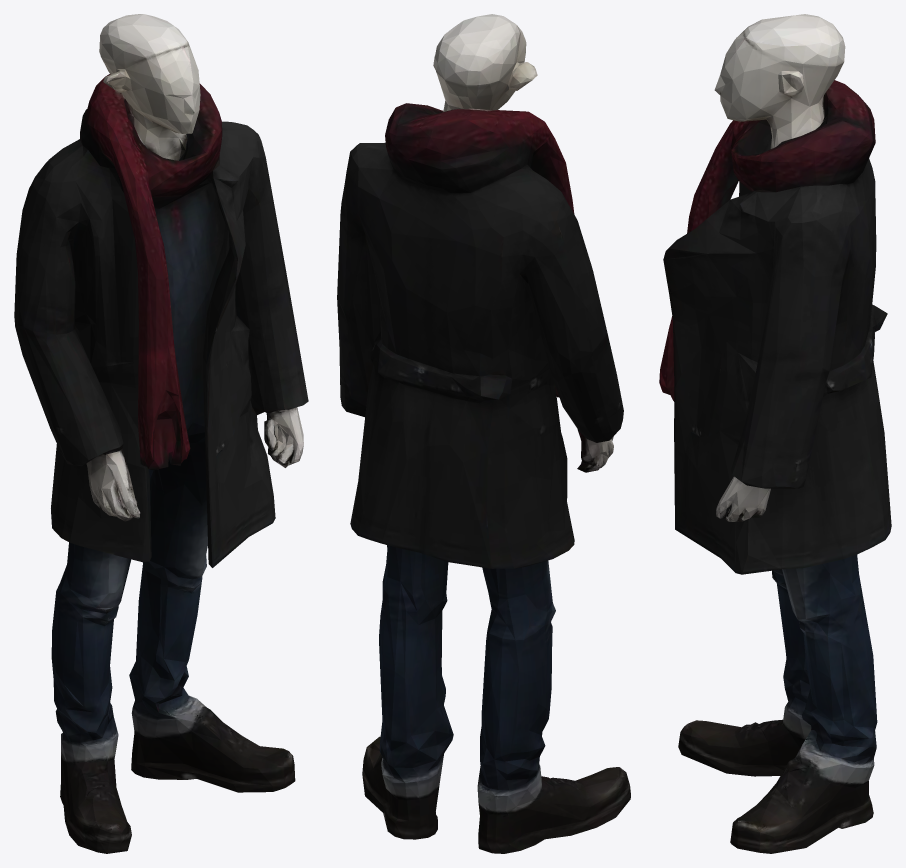
File: dress_black_long_stand.glb
3 views of the same model, side by side, from view 1: azimuth 30°, elevation 25°; view 2: azimuth 150°, elevation 25°; view 3: azimuth 270°, elevation 25° (orthographic). The views are drawn at different scales.
Parts seen in each view (by area): view 1: geometry_0; view 2: geometry_0; view 3: geometry_0.
Boxes of the visible parts, x1=… form: geometry_0: x1=14, y1=14, x2=308, y2=853; geometry_0: x1=337, y1=14, x2=630, y2=853; geometry_0: x1=659, y1=14, x2=891, y2=853.
Bounding box in the file's own units: 0.3574 × 0.9989 × 0.2713.
1 material, 1 textured.
